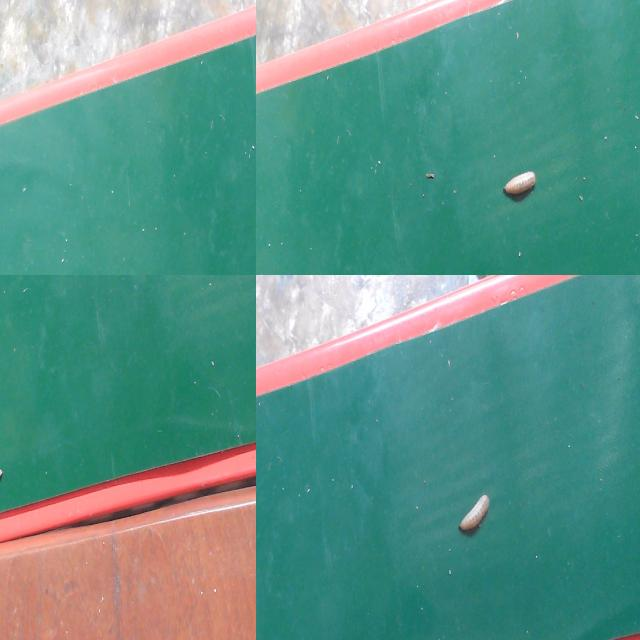Maggot: (449, 490, 492, 541), (501, 170, 538, 204)
